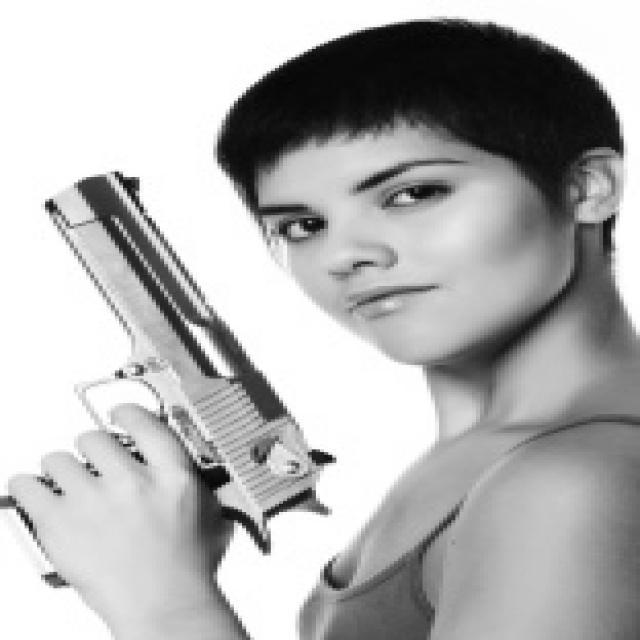Gun: (0, 152, 349, 591)
